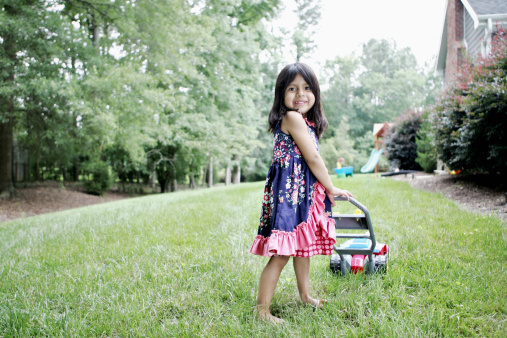em pe: (245, 59, 342, 312)
